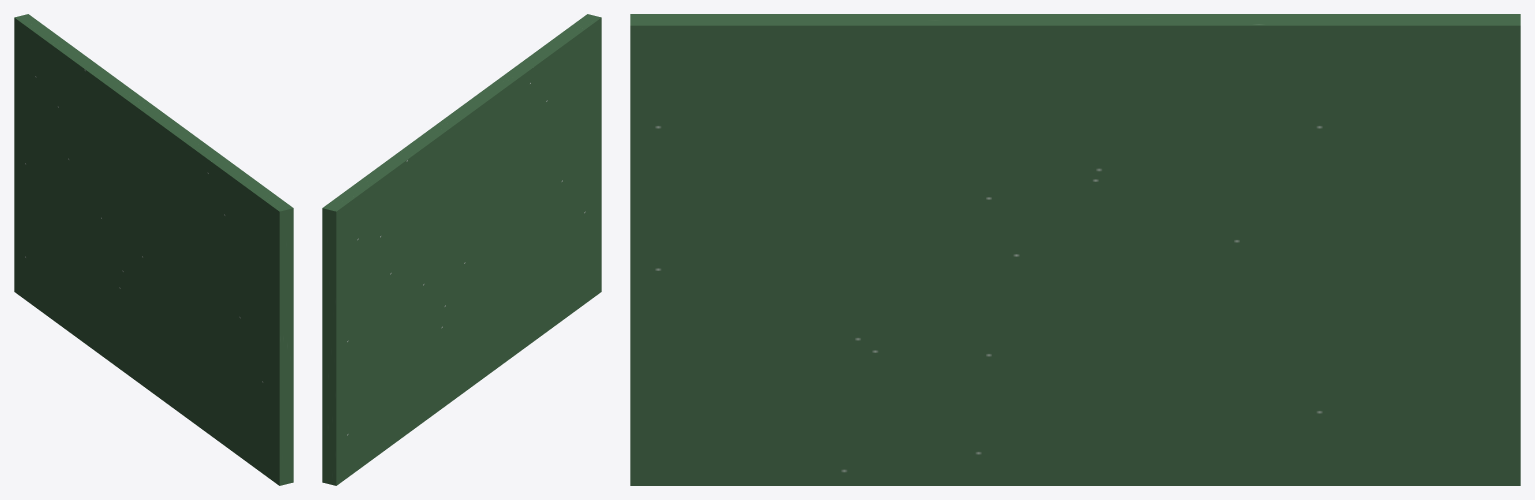
Rendered from ventana2.obj.
3 views of the same model, side by side, from view 1: azimuth 30°, elevation 25°; view 2: azimuth 150°, elevation 25°; view 3: azimuth 270°, elevation 25° (orthographic). The views are drawn at different scales.
Visible parts, largest first — view 1: pCube13; view 2: pCube13; view 3: pCube13.
Boxes of the visible parts, bbox=[...] form: pCube13: bbox=[14, 14, 293, 485]; pCube13: bbox=[322, 14, 601, 485]; pCube13: bbox=[630, 14, 1520, 485].
Bounding box in the file's own units: 0.3175 × 5.85 × 10.26.
1 material, 1 textured.
